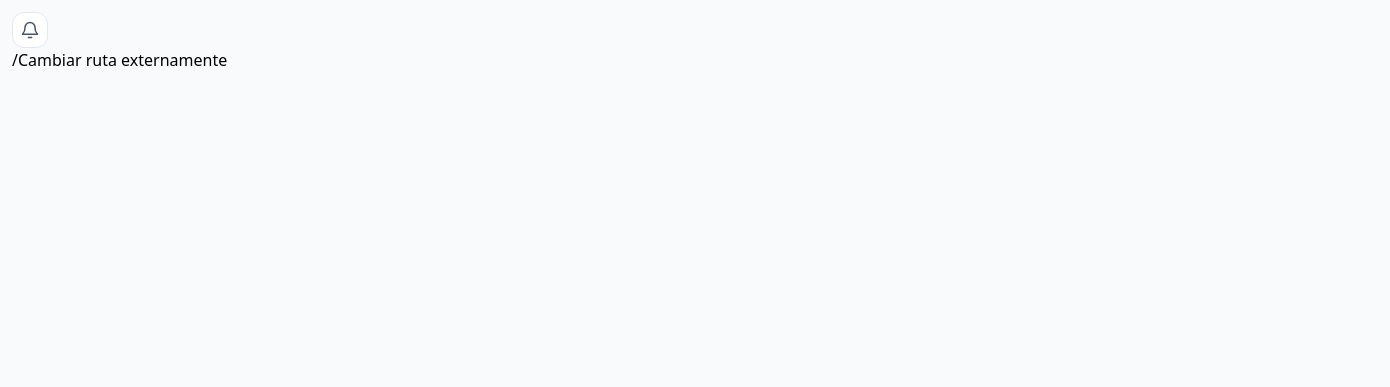
Test: NotificacionesPlaneadores › muestra el error inicial y permite reintentar
Click the button named "Notificaciones de planeadores" at (30, 30), box top-left (12, 12), bottom-right (48, 48)
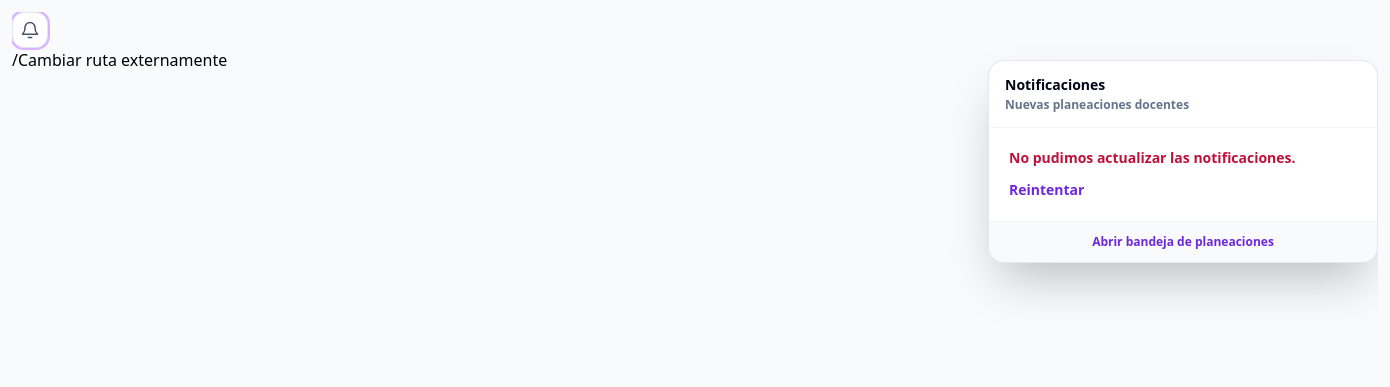
Result: the text "No pudimos actualizar las notificaciones." is shown at top-left (1009, 148), bottom-right (1296, 167)
Click the button "Reintentar" at (1047, 190), box top-left (1009, 180), bottom-right (1084, 200)
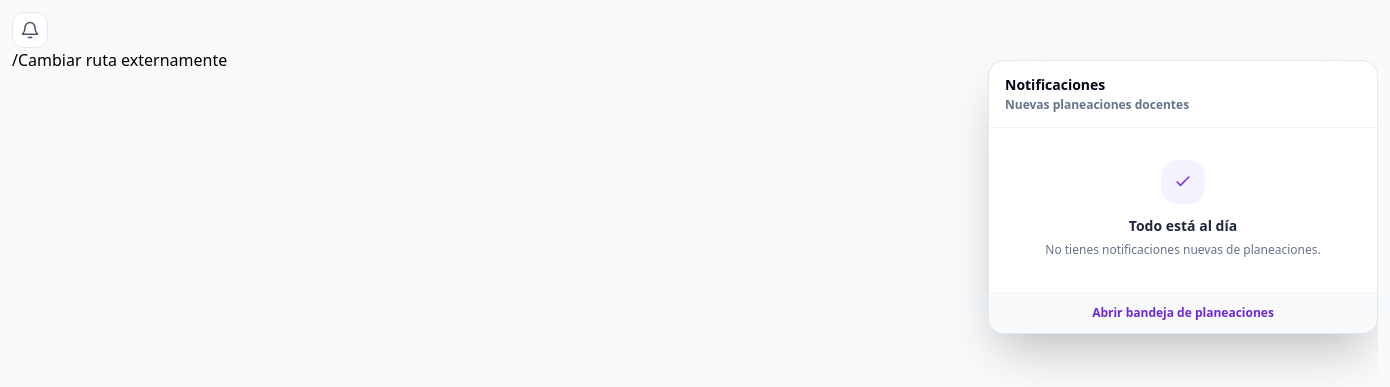
Result: the text "Todo está al día" is shown at top-left (1129, 216), bottom-right (1237, 235)
